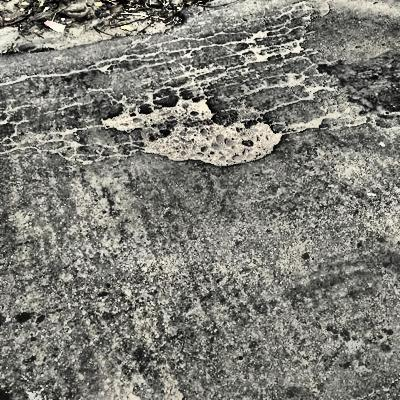pothole: (97, 94, 284, 167)
